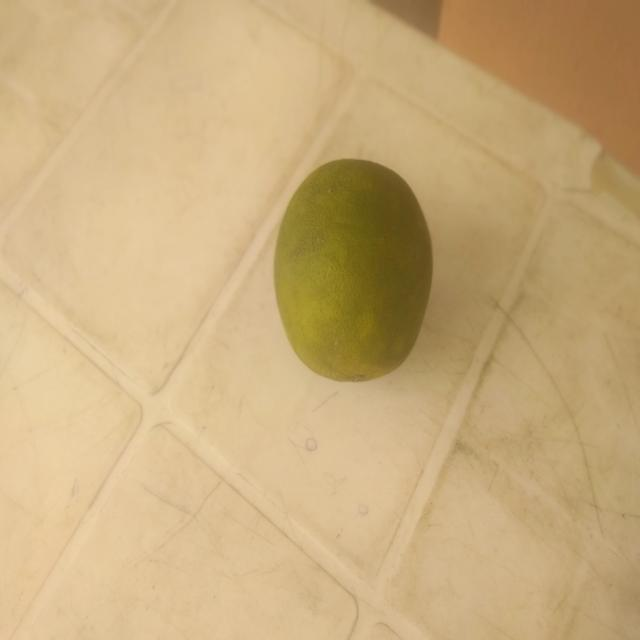Unripe: (274, 146, 436, 408)
